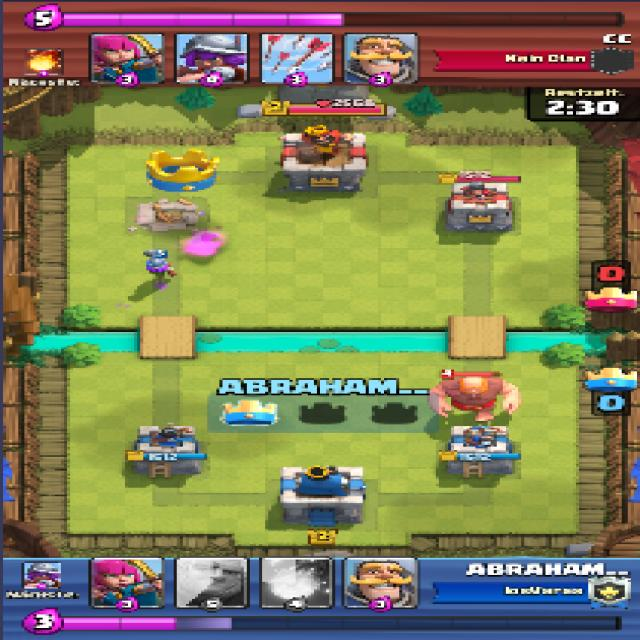Enemy-Giant: (426, 376, 521, 421)
Player-Musketeer: (142, 248, 176, 281)
